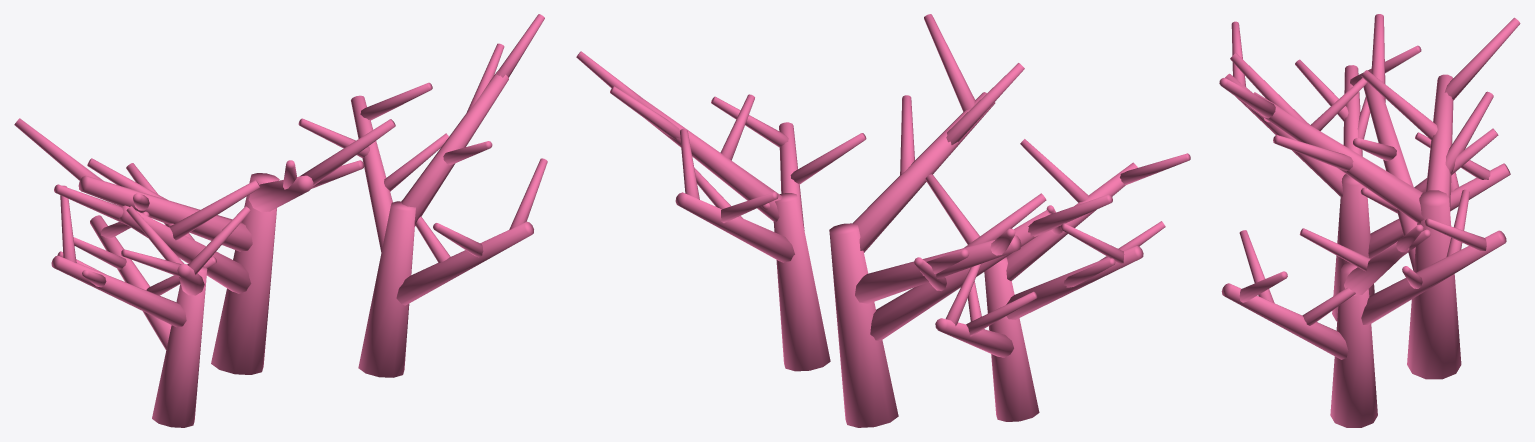
The model's file is underwater-reef-worlds-bushy-soft-coral-bfda7970.glb.
3 views of the same model, side by side, from view 1: azimuth 30°, elevation 25°; view 2: azimuth 150°, elevation 25°; view 3: azimuth 270°, elevation 25° (orthographic).
Parts seen in each view (by area): view 1: bushy-soft-coral; view 2: bushy-soft-coral; view 3: bushy-soft-coral.
Part boxes in pixels (x1,y1,x2,y2): bushy-soft-coral: [14, 14, 547, 427]; bushy-soft-coral: [576, 14, 1190, 427]; bushy-soft-coral: [1219, 14, 1520, 427].
Size of the model in its own units: 1.51 by 0.8658 by 0.7522.
